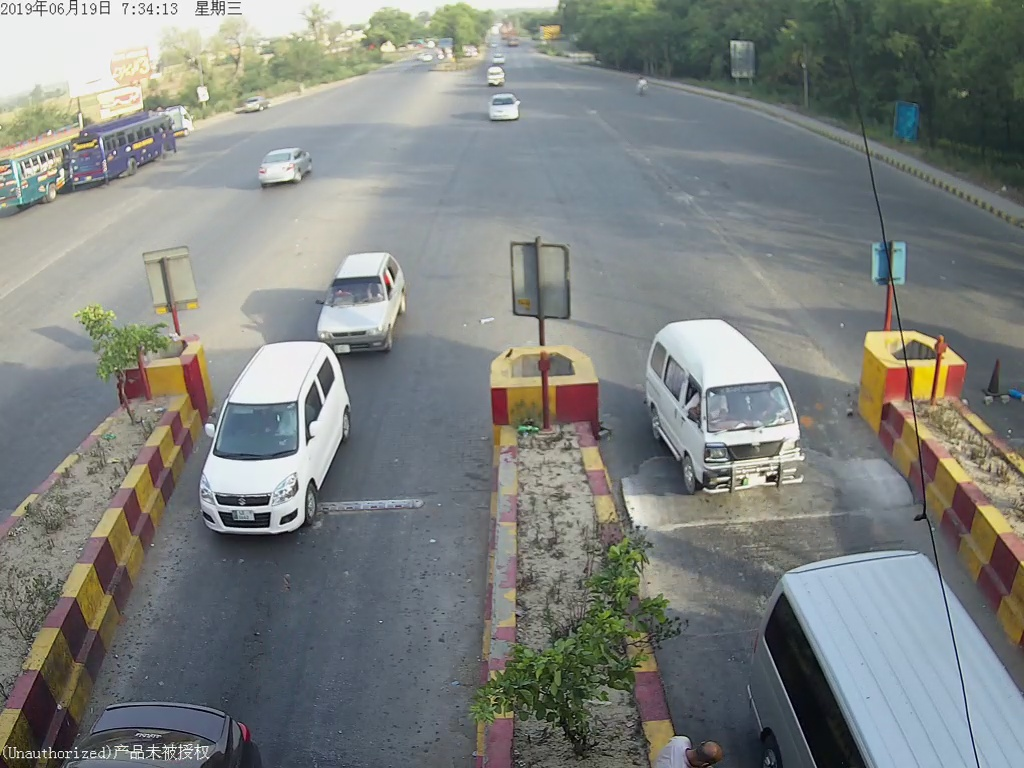Cat-1: (200, 342, 359, 547), (646, 317, 817, 505), (312, 244, 409, 329)
